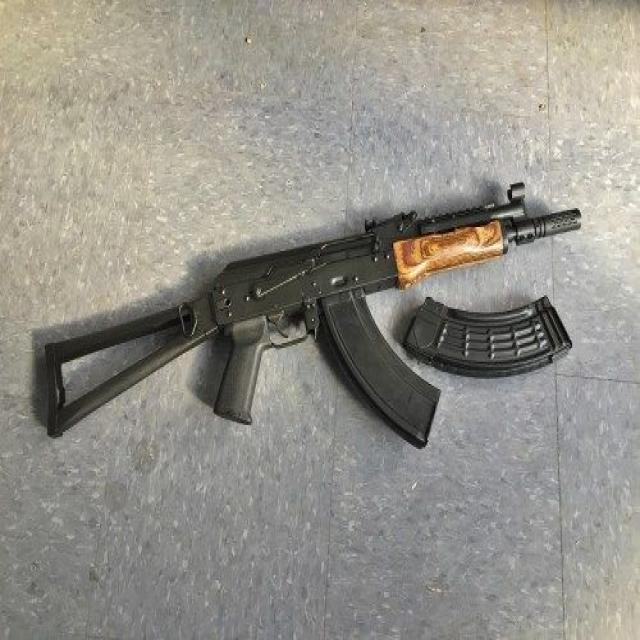ak: (37, 172, 594, 454)
